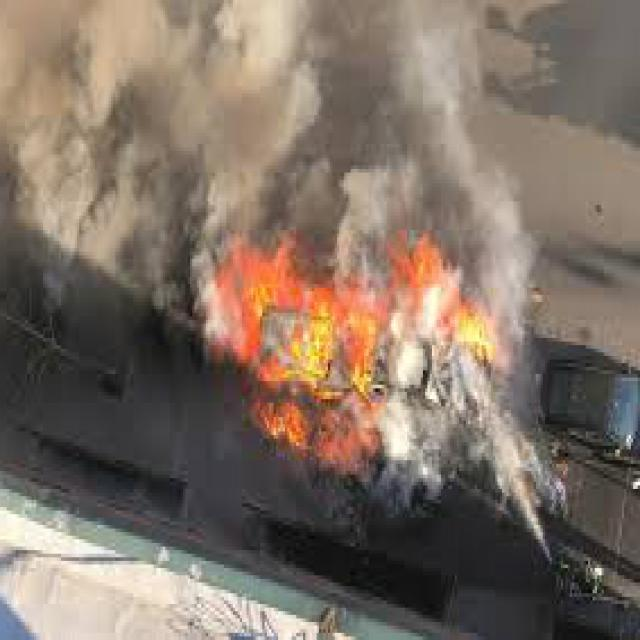Fire: (206, 220, 478, 470)
Smoke: (0, 7, 583, 510)
